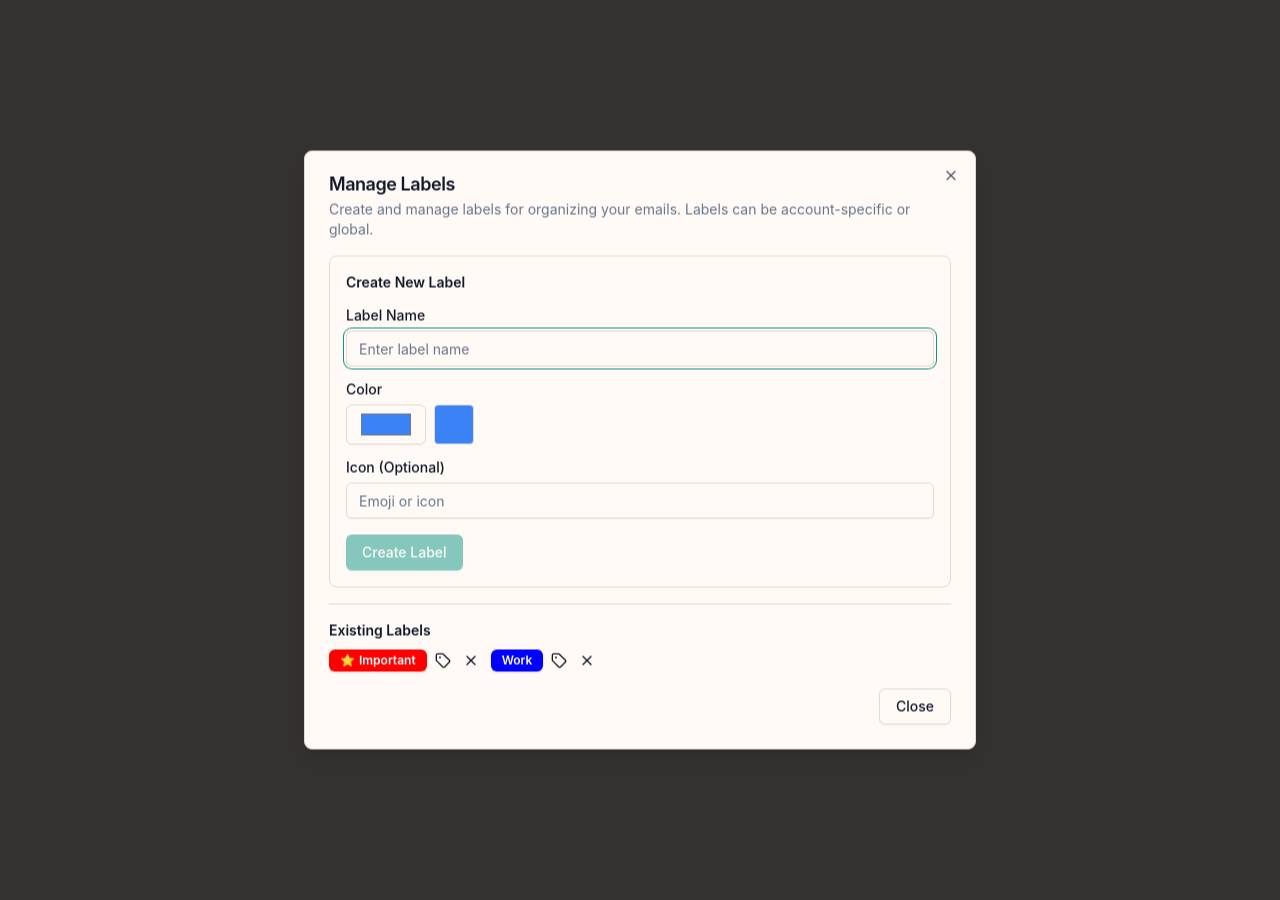
Scenario: LabelManager › edit label › should cancel editing when Cancel is clicked
Click the button named "Edit label" next to "Important". click: (443, 660)
box: [431,648,455,672]
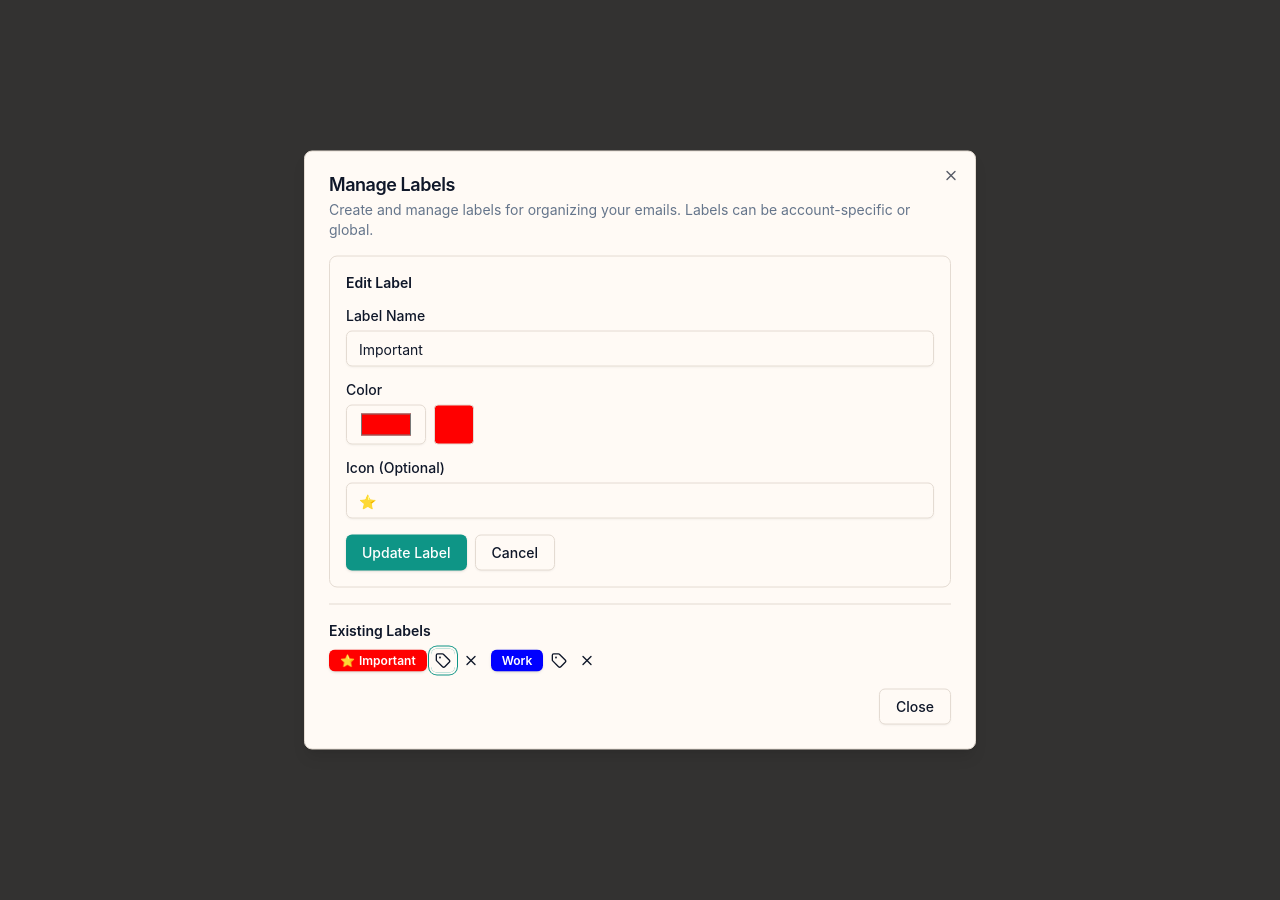
Click the button "Cancel". click: (515, 552)
box: [474,534,555,570]
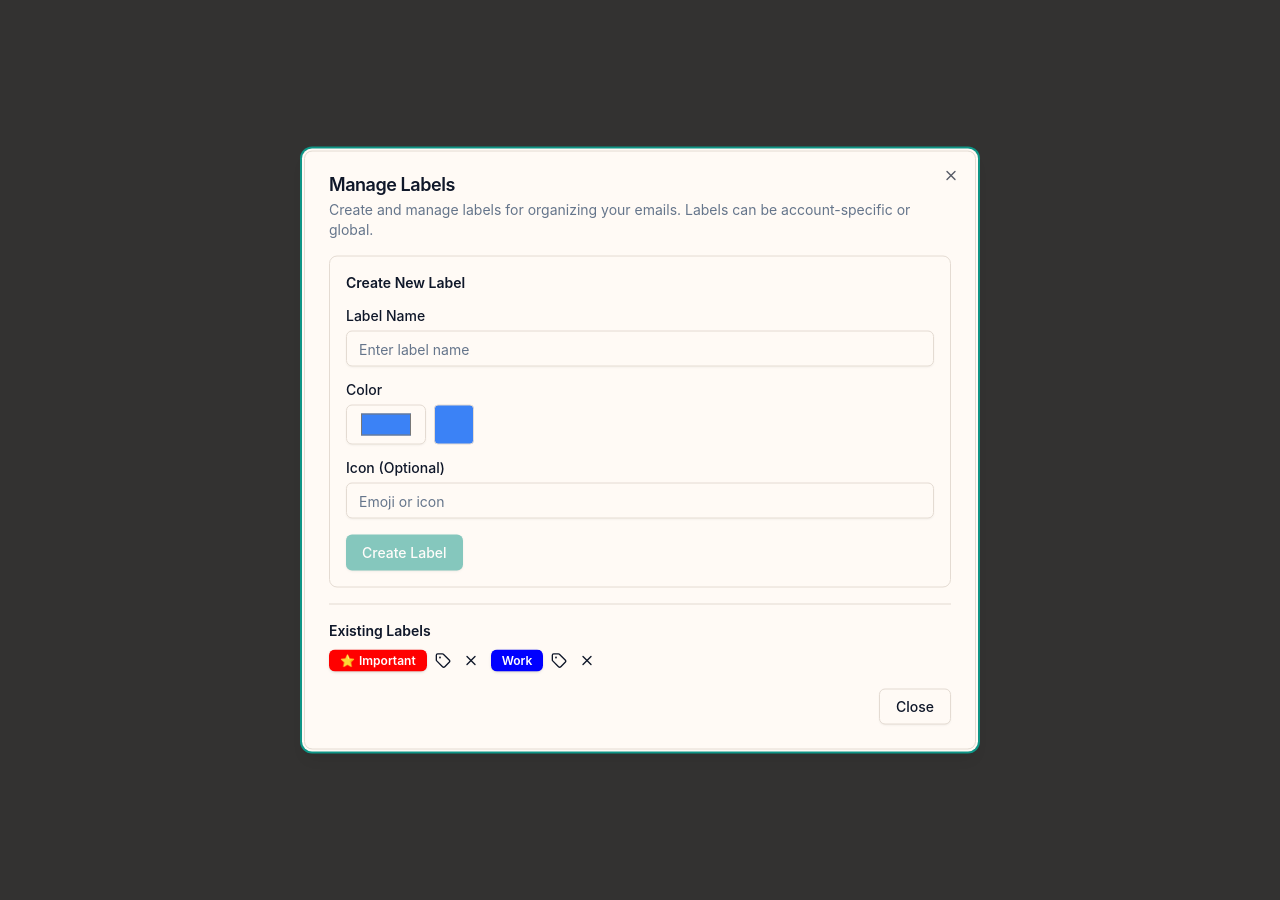
Check: the heading "Create New Label" is shown, box [346,274,465,290]
